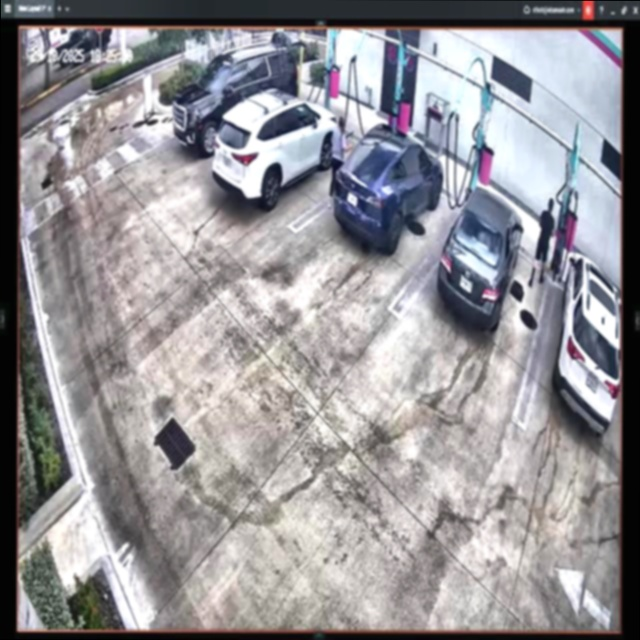Car: (334, 124, 443, 254), (213, 96, 343, 204), (172, 49, 297, 152), (437, 188, 523, 330)
